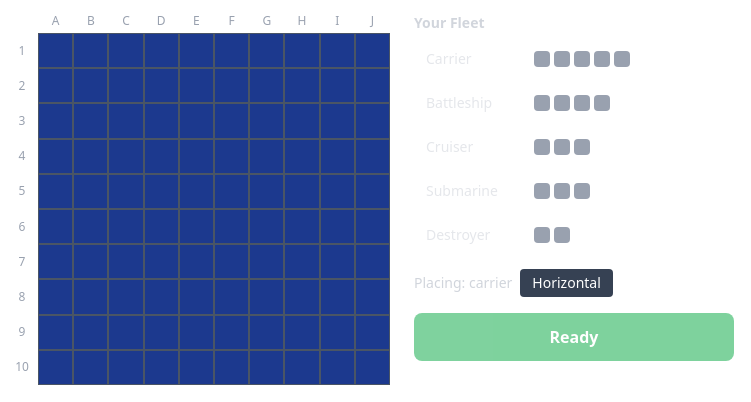
Test case: SetupPhase › rotation toggle changes orientation
Click the button "Horizontal": (567, 283) [520,269,613,297]
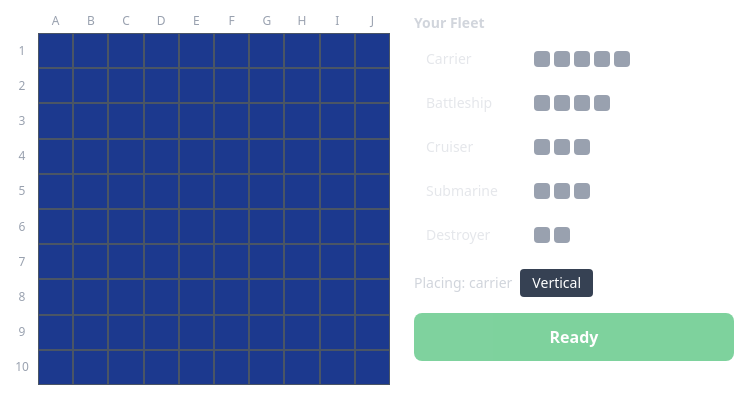
Check: the button "Vertical" is shown, box [520,269,593,297]
